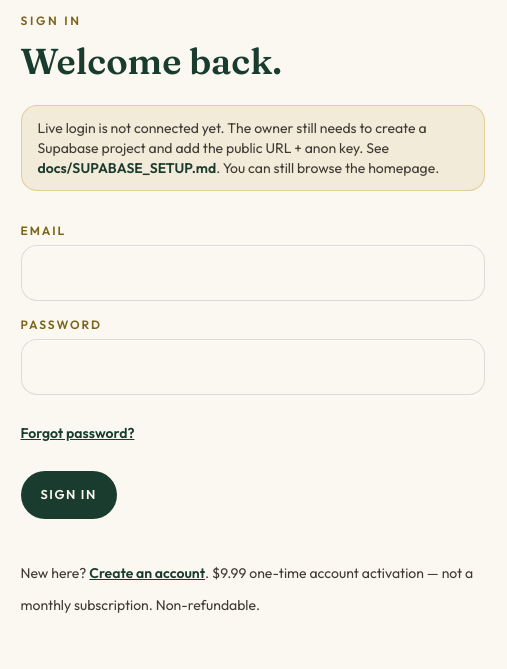
sign in › shows a unconfirmed email error
This screenshot has width=507, height=669.
Type "pat@example.com" into the field labelled "Email" at coordinates (252, 273), box [20, 245, 484, 301]
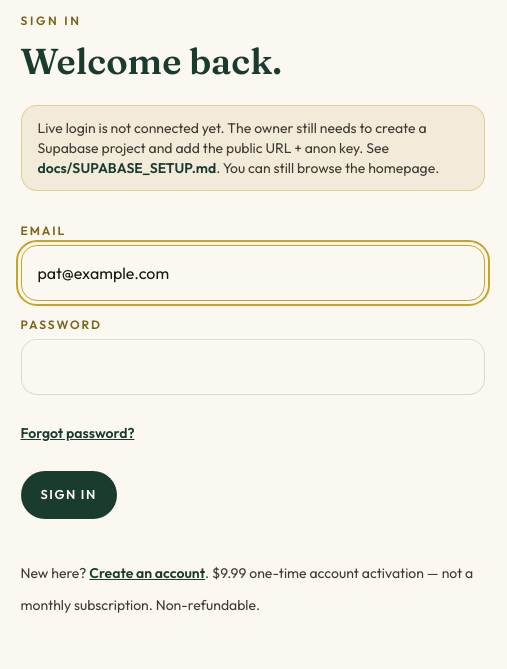
Type "password12" into the password field labelled "Password" at coordinates (252, 367), box [20, 339, 484, 395]
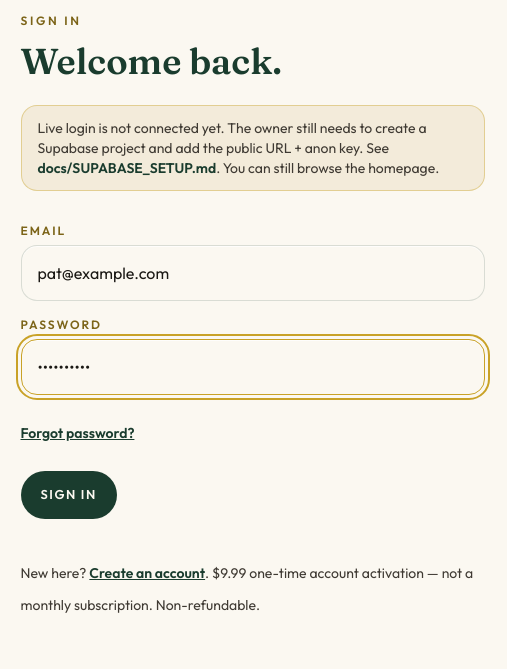
Click the button "Sign in" at coordinates (69, 495), box [20, 471, 117, 519]
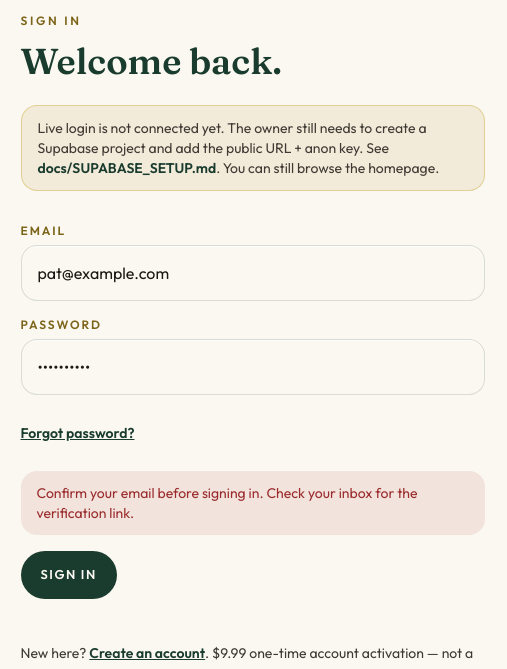
expect the 2nd message shows "Confirm your email before signing in. Check your inbox for the verification link.": met, box [36, 484, 418, 522]
